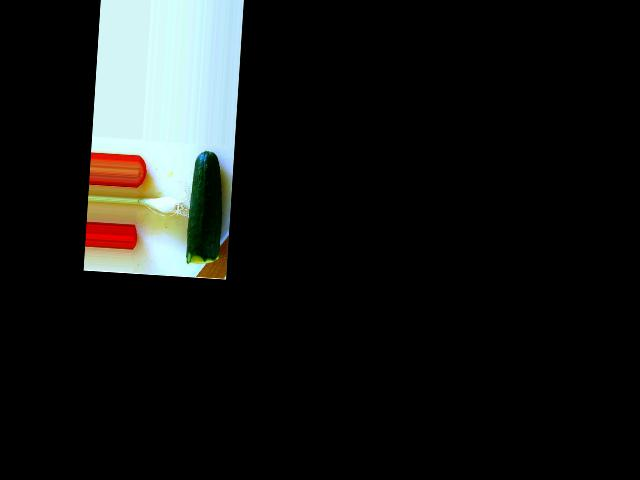cucumber: (186, 149, 226, 265)
